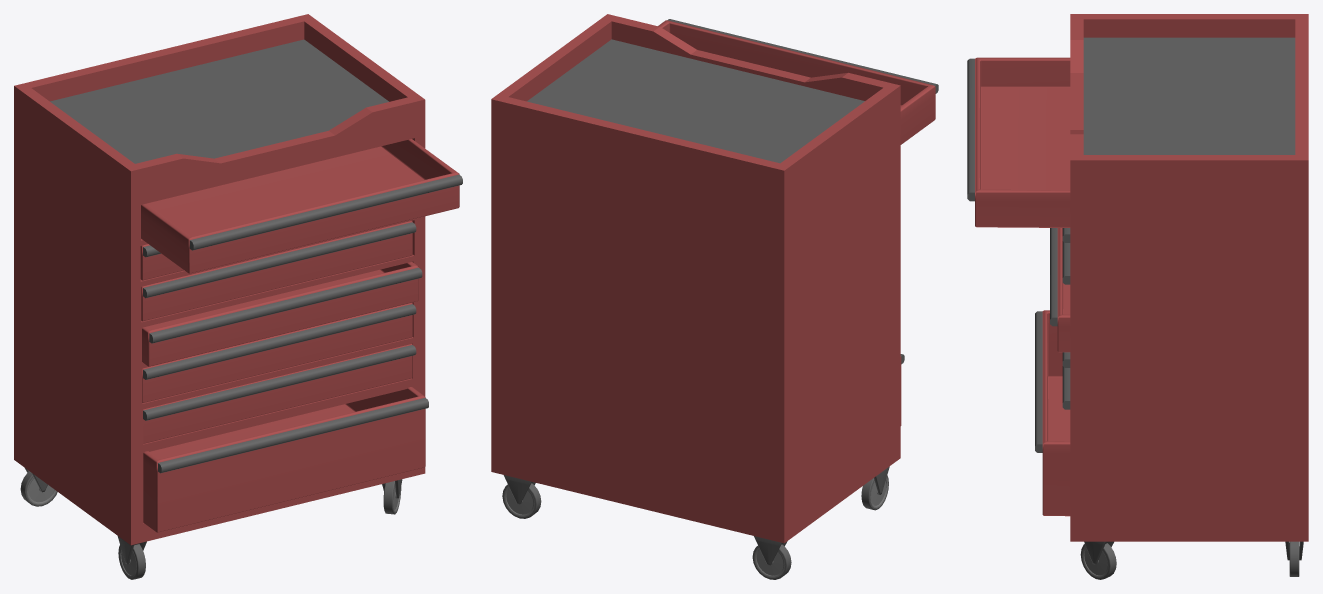
File: ToolBoxOpenGeo.fbx
3 renders of one model, left to right at view 1: azimuth 30°, elevation 25°; view 2: azimuth 150°, elevation 25°; view 3: azimuth 270°, elevation 25°, orthographic. The views are drawn at different scales.
Parts seen in each view (by area): view 1: ToolBoxOpenGeo; view 2: ToolBoxOpenGeo; view 3: ToolBoxOpenGeo.
Part boxes in pixels (x1,y1,x2,y2): ToolBoxOpenGeo: [14, 14, 462, 579]; ToolBoxOpenGeo: [491, 14, 938, 579]; ToolBoxOpenGeo: [967, 14, 1308, 579].
Bounding box in the file's own units: 203 × 277 × 200.
